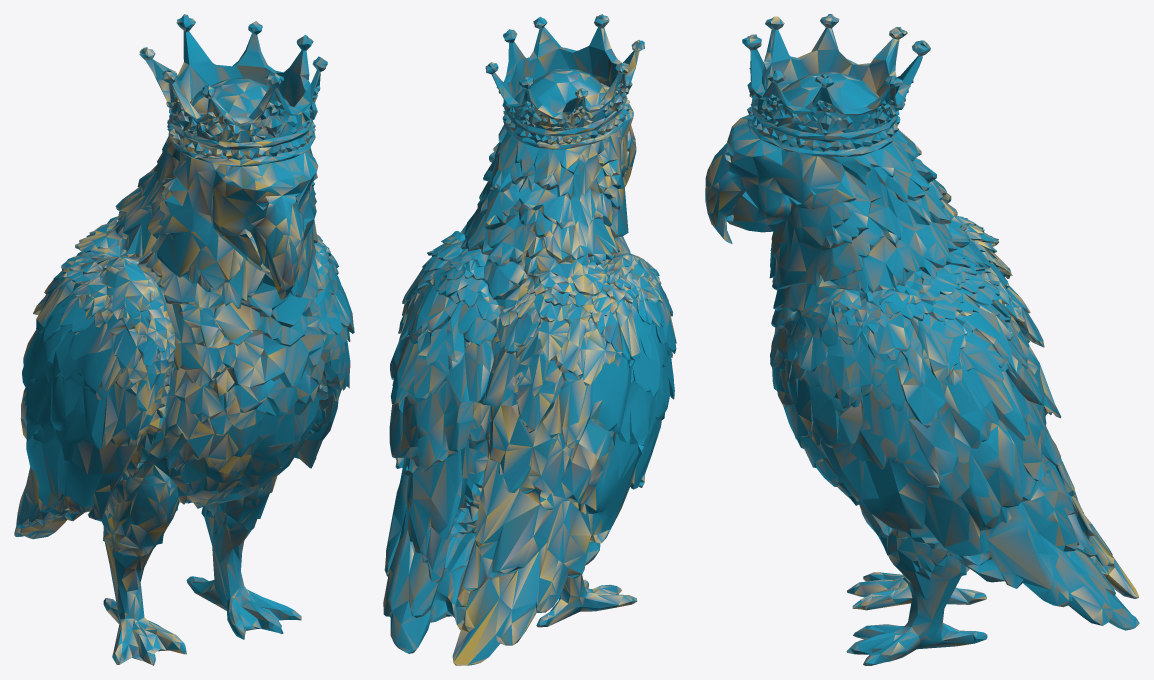
The model's file is parrot_crown_v7.glb.
3 views of the same model, side by side, from view 1: azimuth 30°, elevation 25°; view 2: azimuth 150°, elevation 25°; view 3: azimuth 270°, elevation 25° (orthographic). The views are drawn at different scales.
Parts seen in each view (by area): view 1: Mesh_0; view 2: Mesh_0; view 3: Mesh_0.
Boxes of the visible parts, bbox=[...] form: Mesh_0: bbox=[14, 14, 354, 665]; Mesh_0: bbox=[383, 14, 676, 665]; Mesh_0: bbox=[705, 14, 1139, 665].
Bounding box in the file's own units: 0.1617 × 0.32 × 0.2124.
